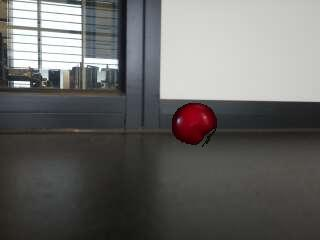Tomato: (172, 103, 218, 147)
